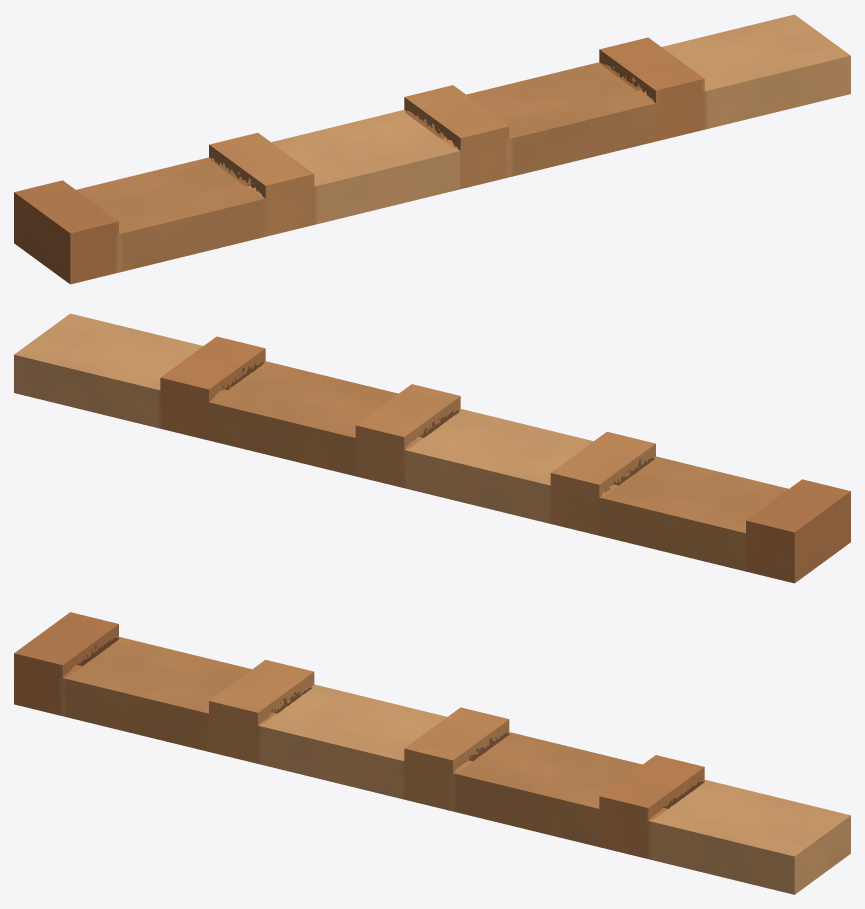
3 views of the same model, one above another, from view 1: azimuth 30°, elevation 25°; view 2: azimuth 150°, elevation 25°; view 3: azimuth 330°, elevation 25° (orthographic).
Visible parts, largest first — view 1: ss15-alternating-sandstone-coping; view 2: ss15-alternating-sandstone-coping; view 3: ss15-alternating-sandstone-coping.
Part boxes in pixels (x1,y1,x2,y2): ss15-alternating-sandstone-coping: [14, 14, 850, 284]; ss15-alternating-sandstone-coping: [14, 313, 850, 583]; ss15-alternating-sandstone-coping: [14, 612, 850, 894].
Size of the model in its own units: 400 by 25 by 50.
